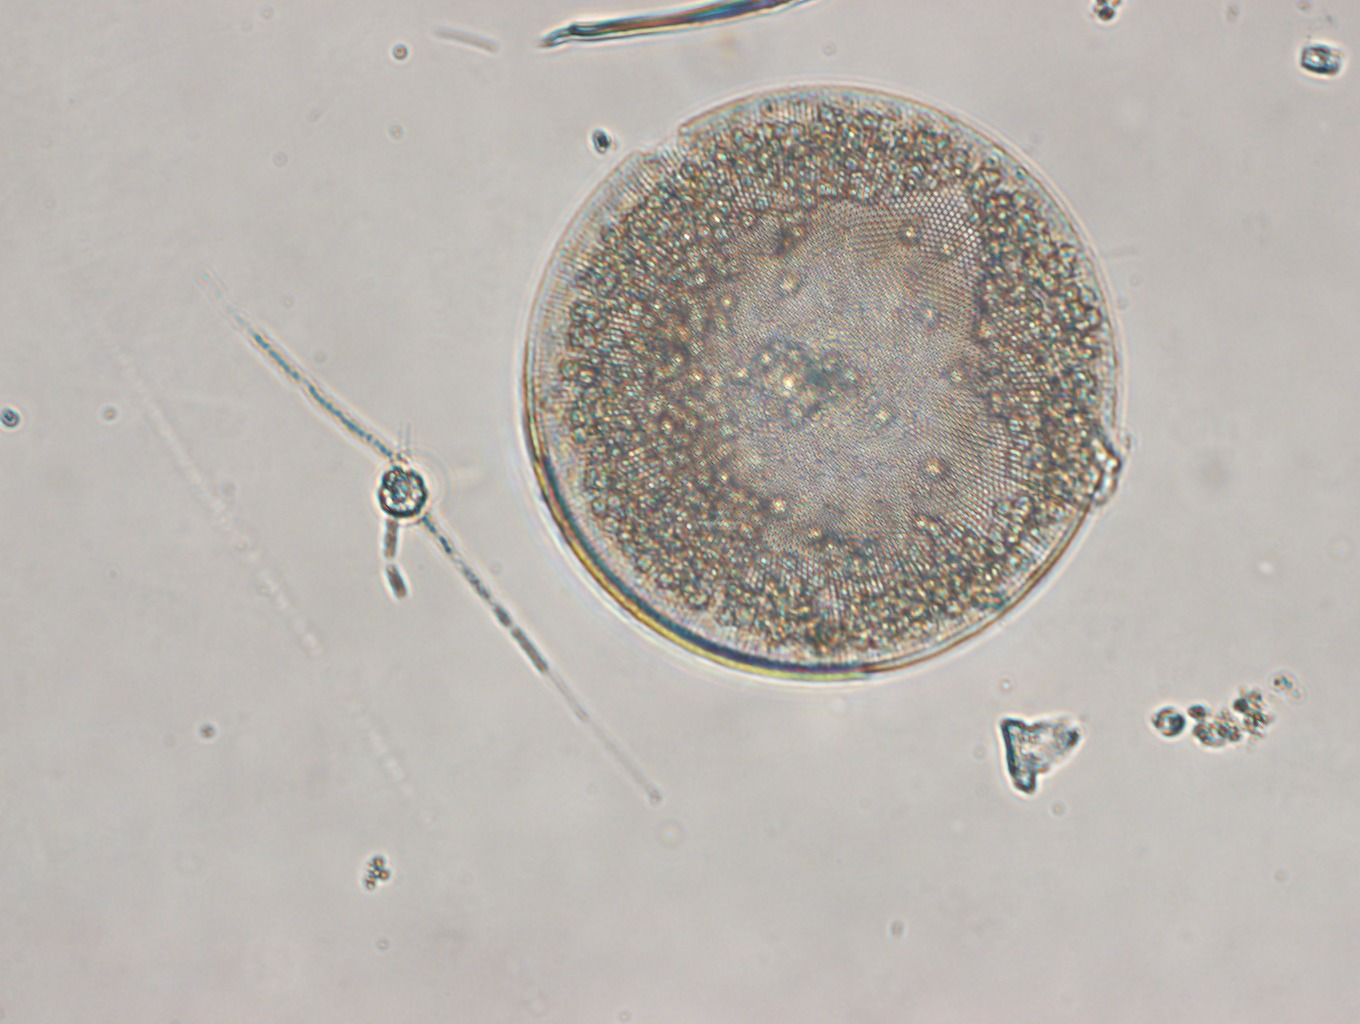coscinodiscus: (520, 75, 1136, 691)
